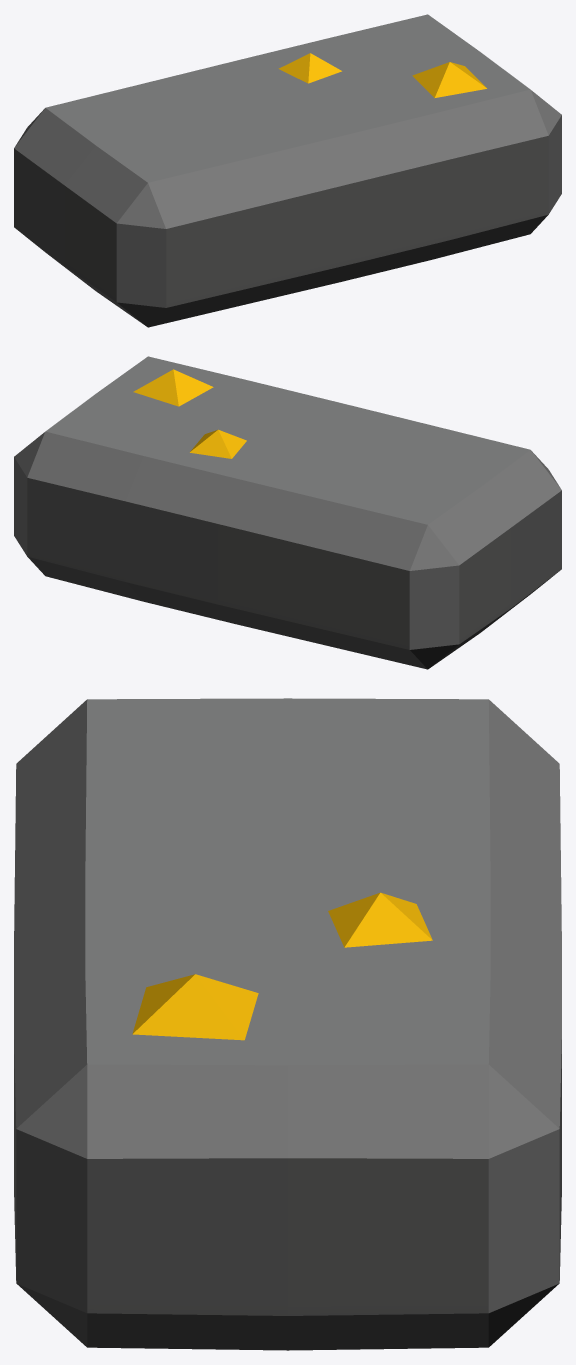
Rendered from m_kub_ore_floorBrick.FBX.
3 renders of one model, top to bottom at view 1: azimuth 30°, elevation 25°; view 2: azimuth 150°, elevation 25°; view 3: azimuth 270°, elevation 25°, orthographic. The views are drawn at different scales.
Visible parts, largest first — view 1: m_kub_ore_floorBrick; view 2: m_kub_ore_floorBrick; view 3: m_kub_ore_floorBrick.
Boxes of the visible parts, x1,y1,x2,y2 form: m_kub_ore_floorBrick: [14, 14, 561, 327]; m_kub_ore_floorBrick: [14, 356, 561, 669]; m_kub_ore_floorBrick: [14, 698, 561, 1350].
Size of the model in its own units: 2.18 by 0.7826 by 1.18.
